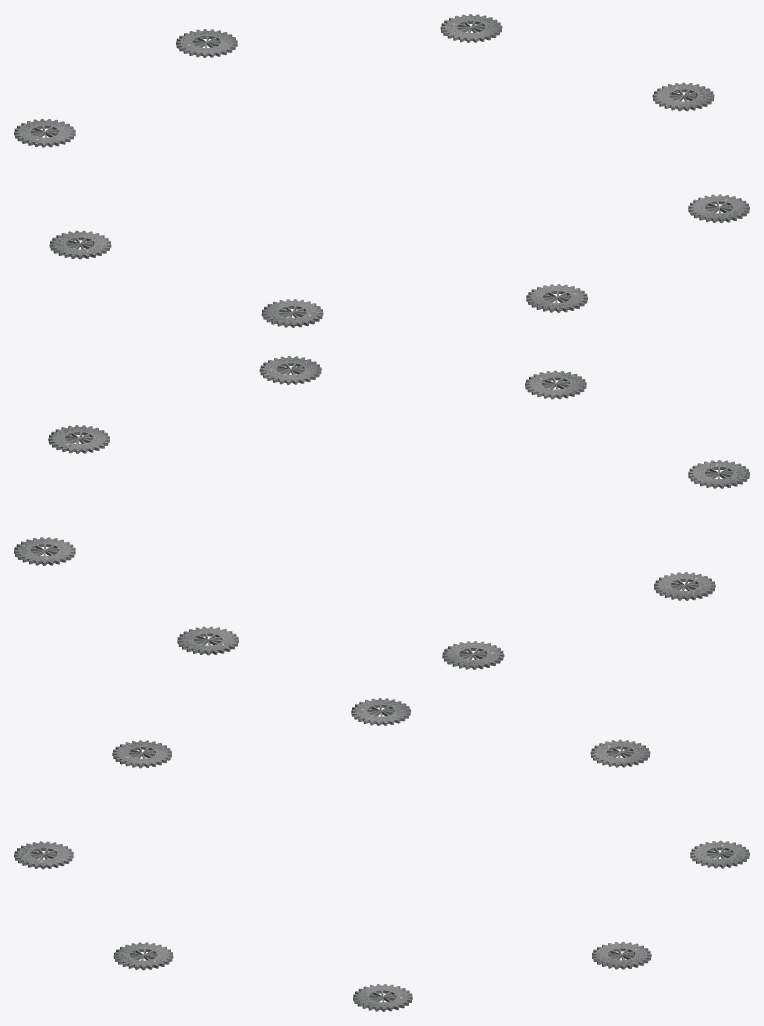
3 views of the same model, one above another, from view 1: azimuth 30°, elevation 25°; view 2: azimuth 150°, elevation 25°; view 3: azimuth 270°, elevation 25° (orthographic). The views are drawn at different scales.
Parts seen in each view (by area): view 1: 08_HZ; view 2: 08_HZ; view 3: 08_HZ.
Boxes of the visible parts, x1=… form: 08_HZ: x1=14, y1=14, x2=749, y2=327; 08_HZ: x1=14, y1=356, x2=749, y2=669; 08_HZ: x1=14, y1=698, x2=749, y2=1011.
Size of the model in its own units: 4983 by 20 by 4983.
